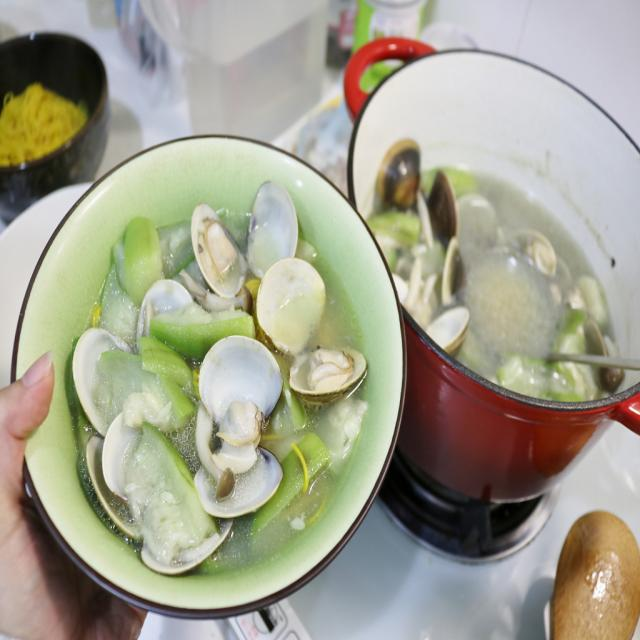Wet: (90, 227, 342, 554), (387, 147, 595, 410)
